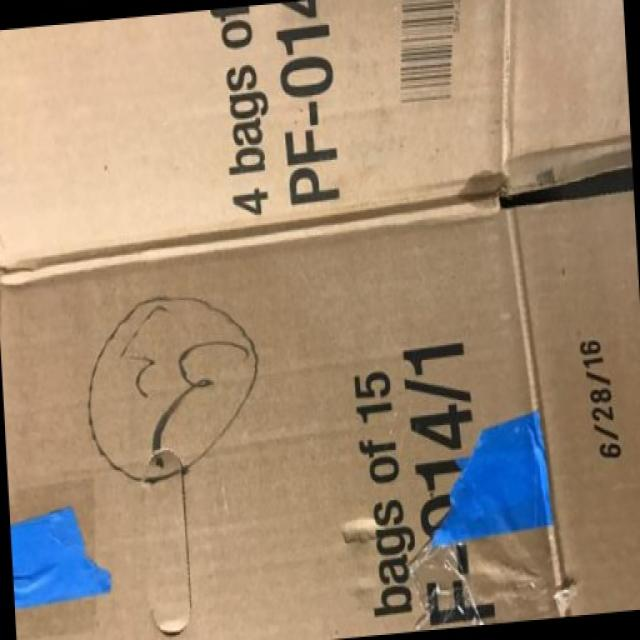carton: (21, 8, 448, 596)
